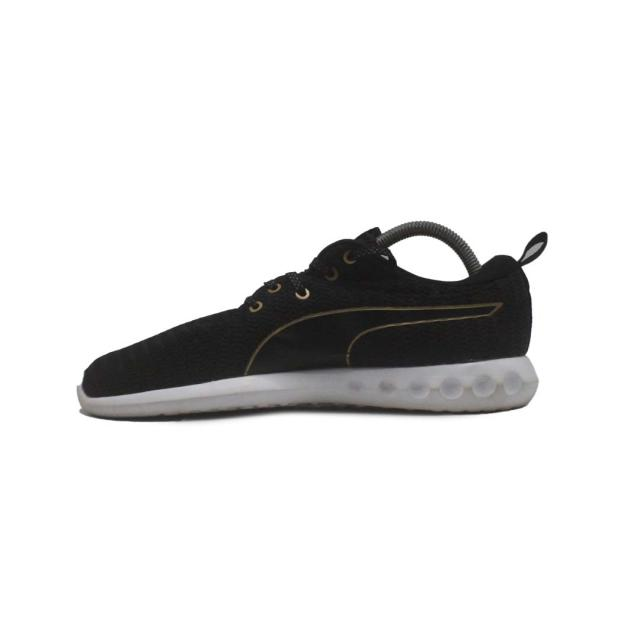heel: (477, 234, 548, 361)
midsole: (78, 356, 538, 418)
uppersole: (80, 225, 483, 401)
